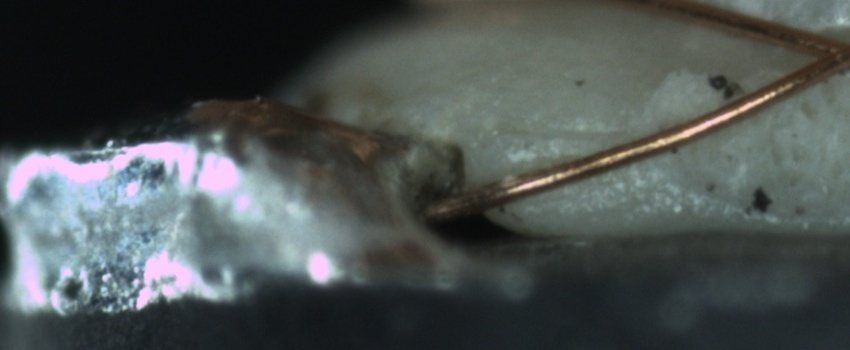CL: (791, 23, 850, 79)
DL: (507, 103, 641, 161)
